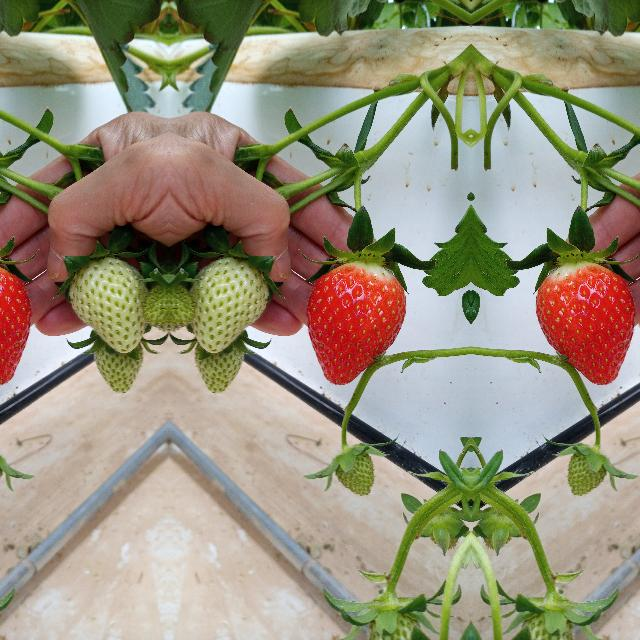Health_100: (304, 260, 406, 386), (536, 260, 636, 386), (0, 260, 31, 385)
Health_25: (194, 254, 266, 350), (70, 254, 142, 350), (199, 326, 245, 396), (91, 326, 137, 396), (326, 445, 376, 501), (565, 445, 615, 501), (0, 445, 10, 501)
